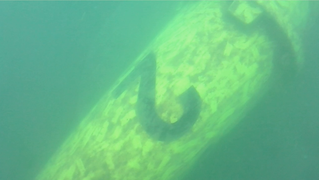2: (110, 49, 203, 142), (194, 131, 229, 168)
pipe: (33, 1, 319, 179)
